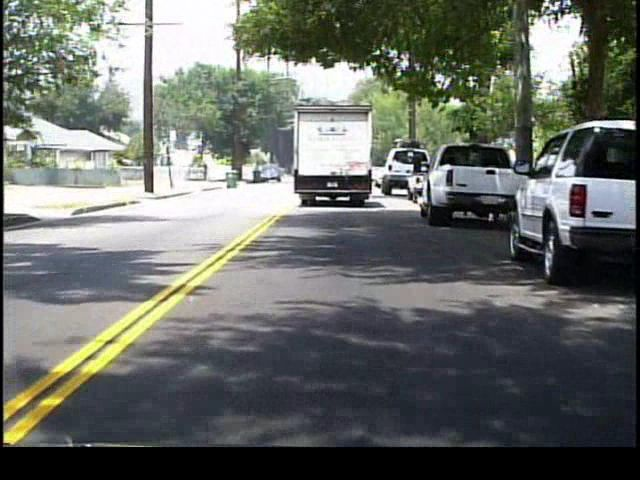person: (202, 162, 211, 184)
